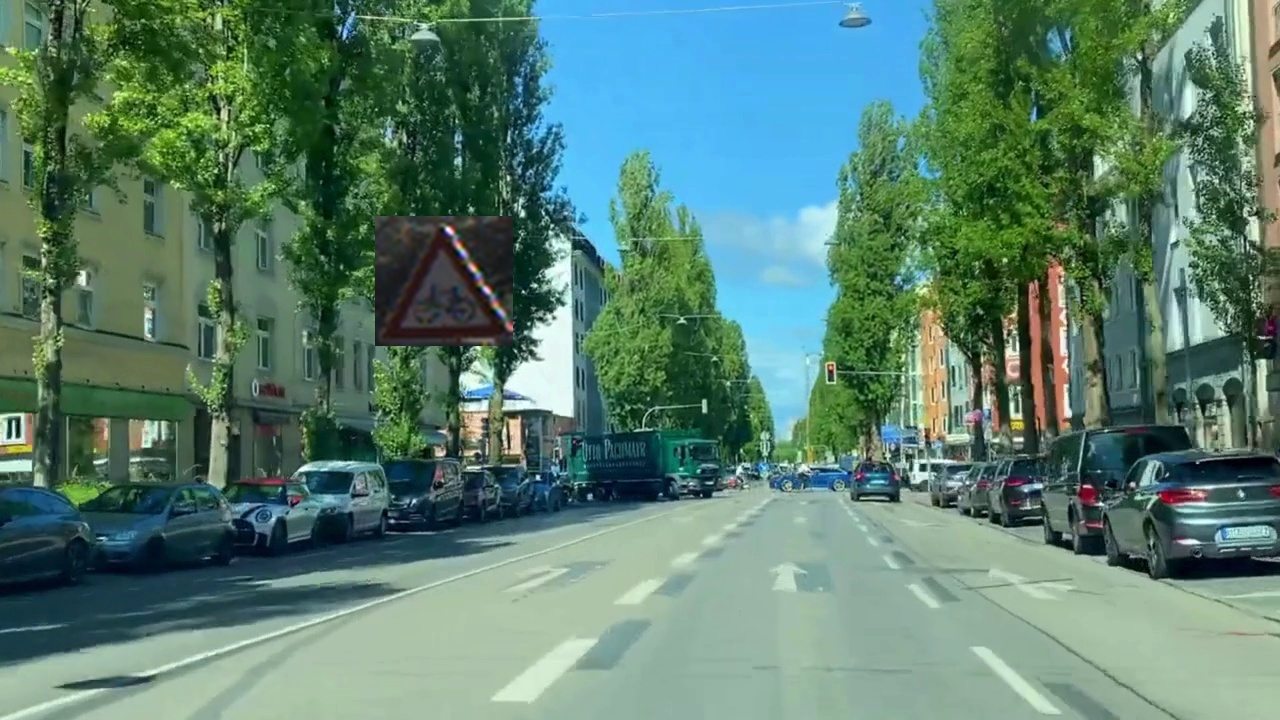Bicycles: (375, 216, 513, 346)
